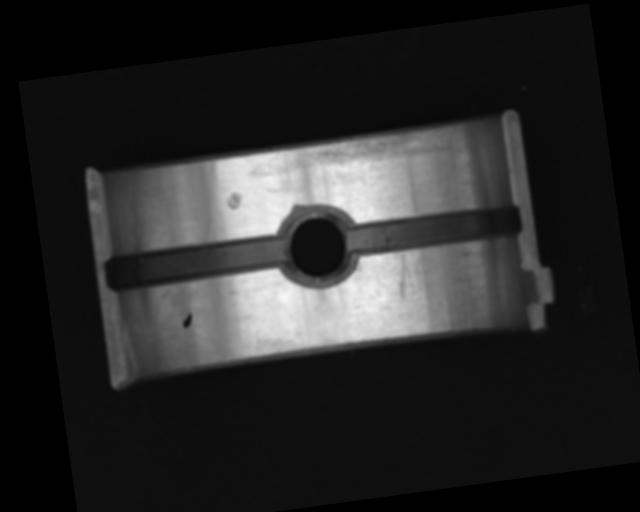blot: (180, 312, 194, 329)
bruise: (224, 191, 243, 212)
gap: (103, 231, 291, 292), (348, 201, 523, 258)
hole: (275, 200, 362, 292)
nick: (392, 248, 417, 302)
scratch: (294, 121, 462, 173)
